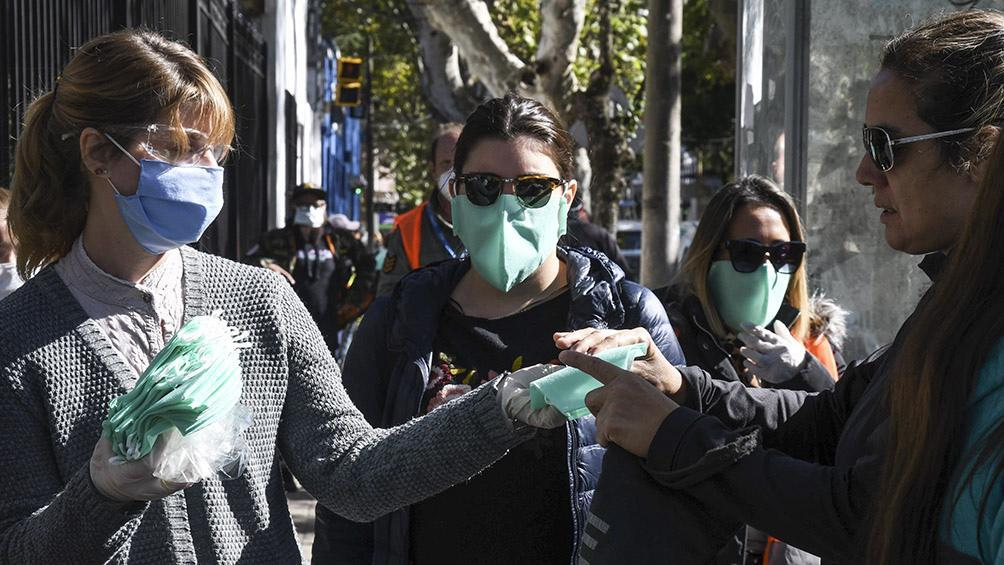barbijo: (85, 132, 229, 252), (446, 187, 576, 296), (703, 244, 795, 339)
